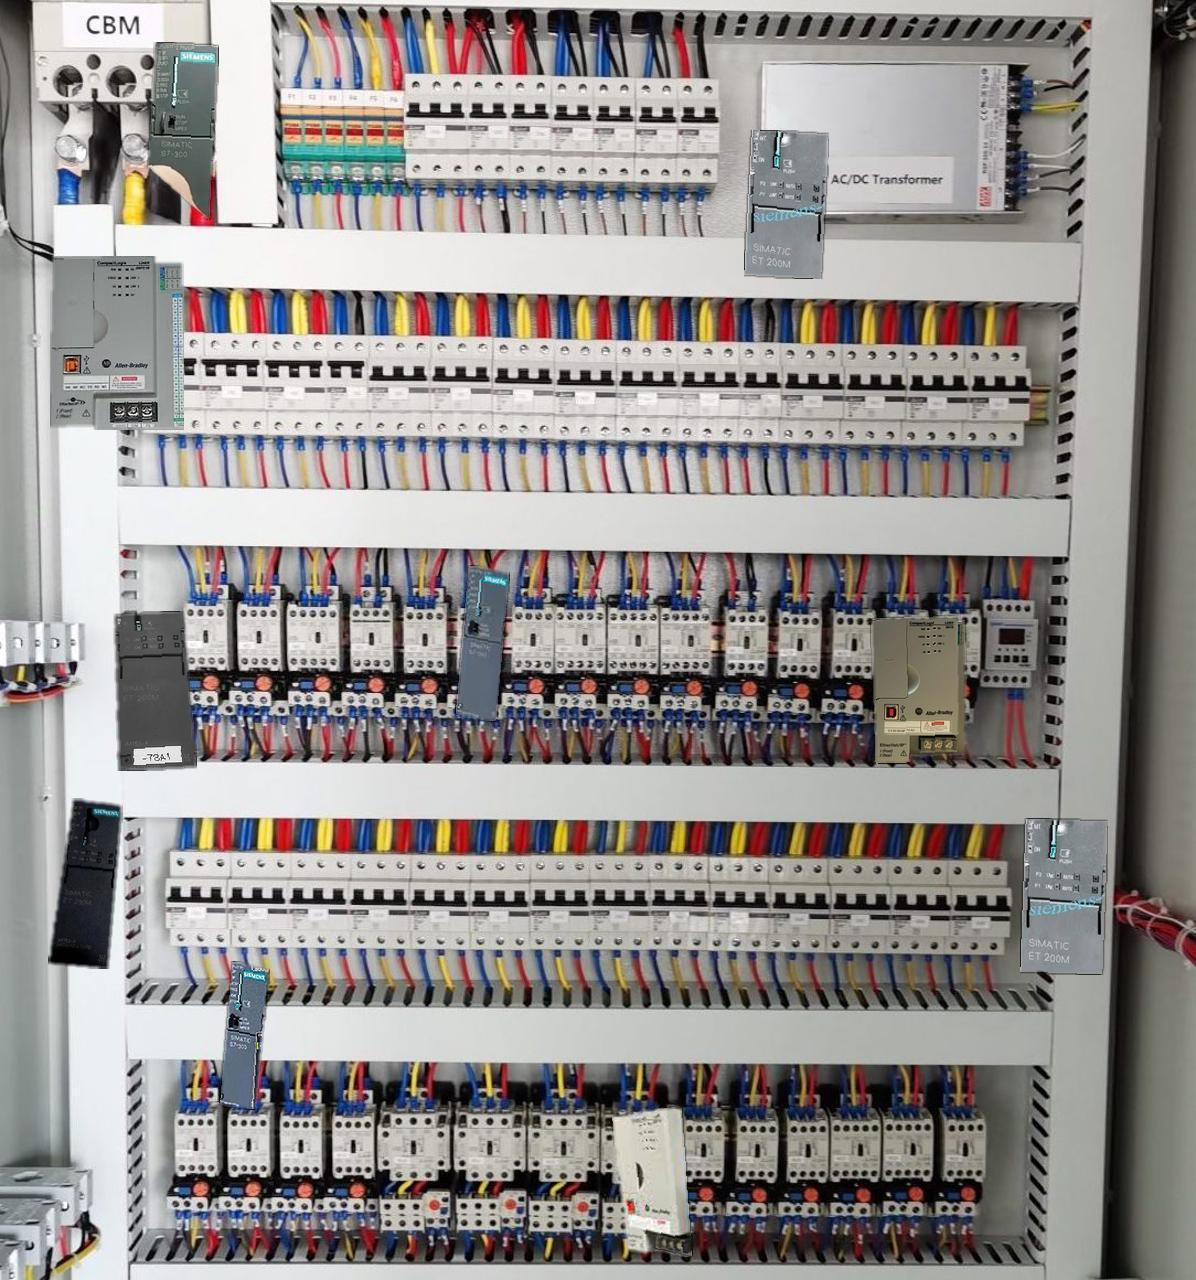AllenBradley: (49, 256, 183, 429), (872, 617, 964, 763), (611, 1108, 691, 1256)
Siemens: (148, 43, 217, 219), (456, 566, 508, 720), (220, 962, 268, 1108)
